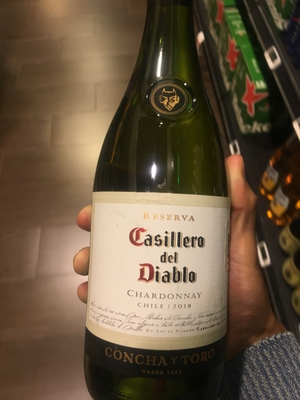casillero del diablo chardonnay: (80, 19, 244, 394)
